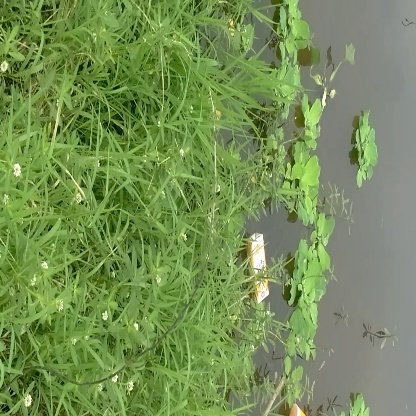milk-box: (241, 227, 276, 301)
